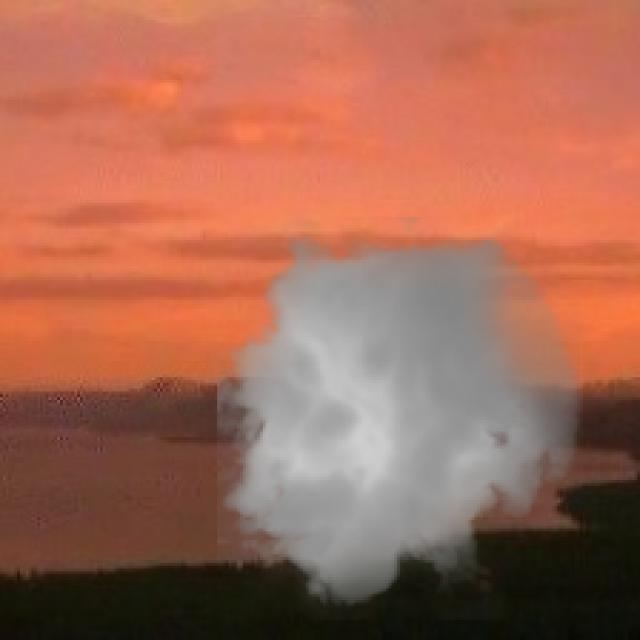Smoke: (200, 217, 594, 620)
